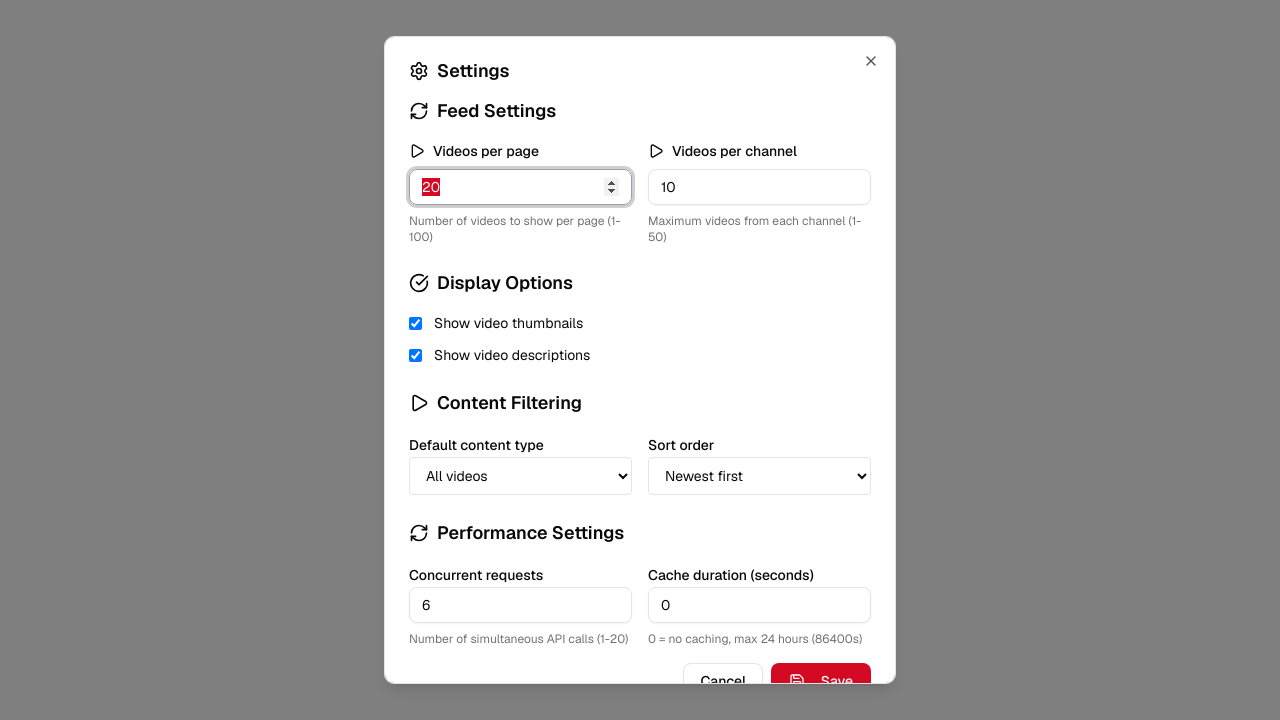
SettingsDialog › validates per_page input
The image size is (1280, 720).
# Test invalid value (too high)
Replace the text in the number field labelled "Videos per page" with "150" at x=520, y=187, box [409, 169, 632, 205]
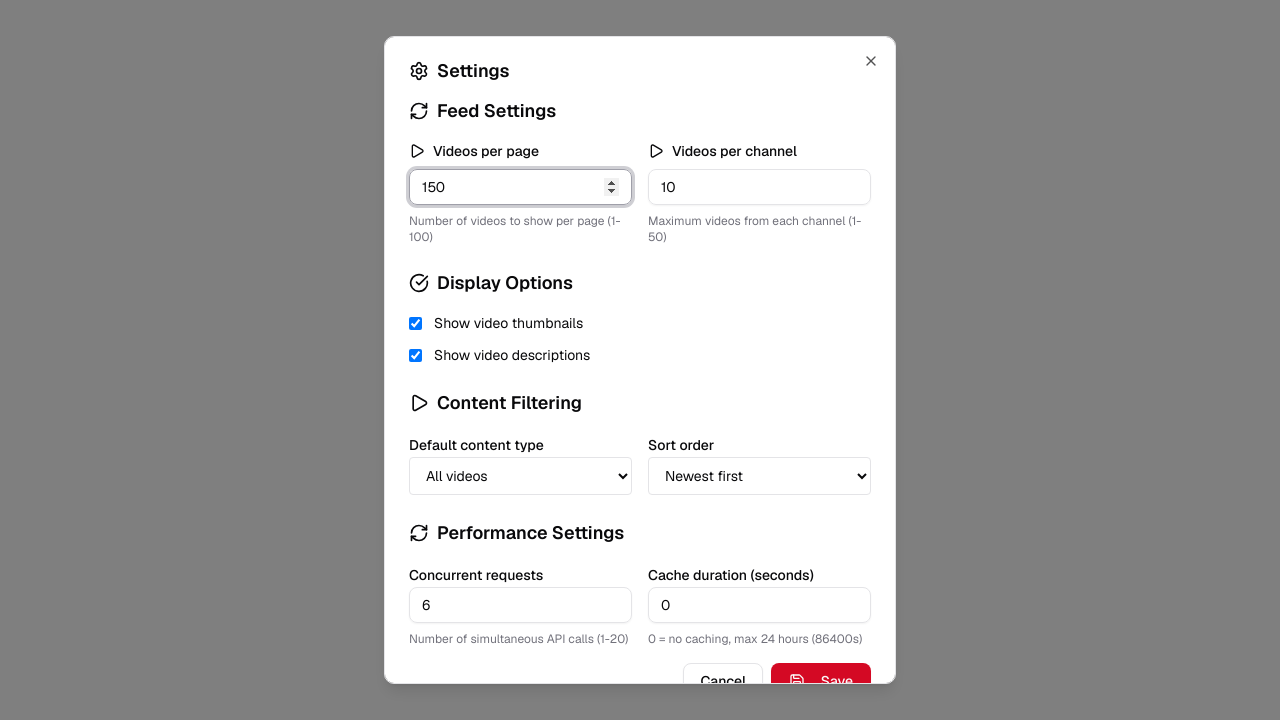
Click the button "Save" at x=821, y=681, box [771, 663, 871, 699]
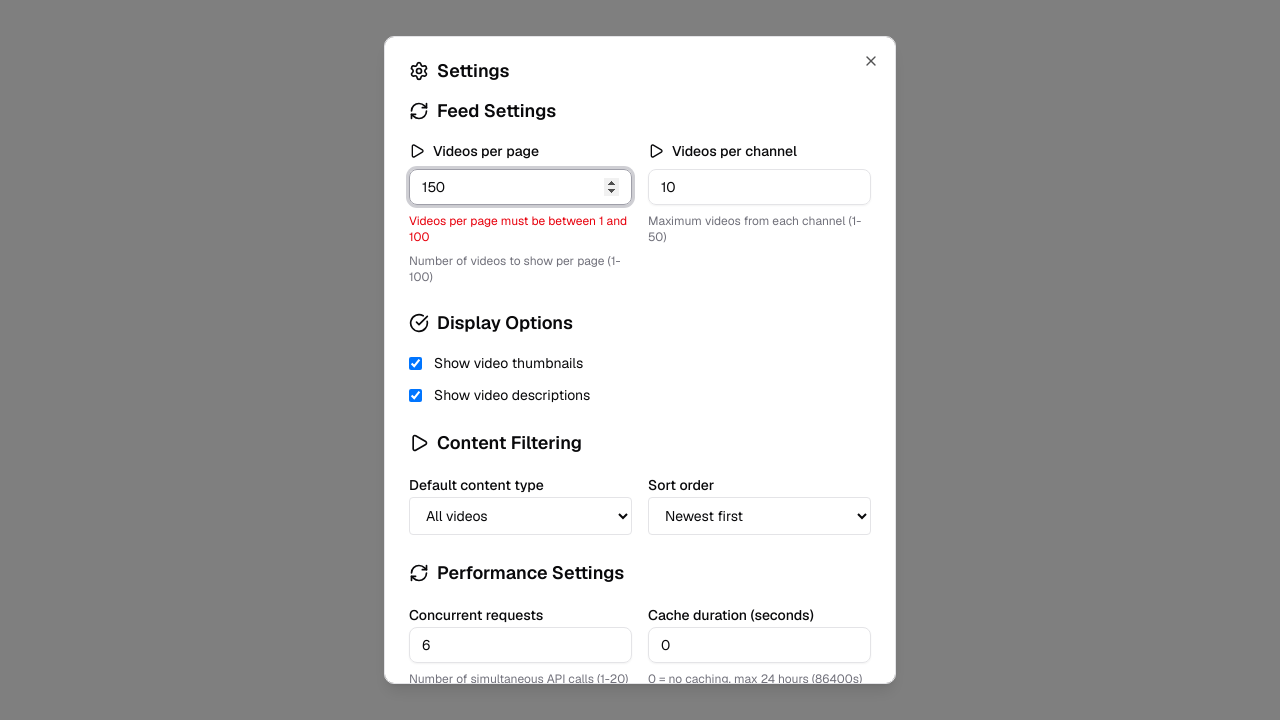
Result: the text "Videos per page must be between 1 and 100" is shown at [409, 213, 632, 245]
